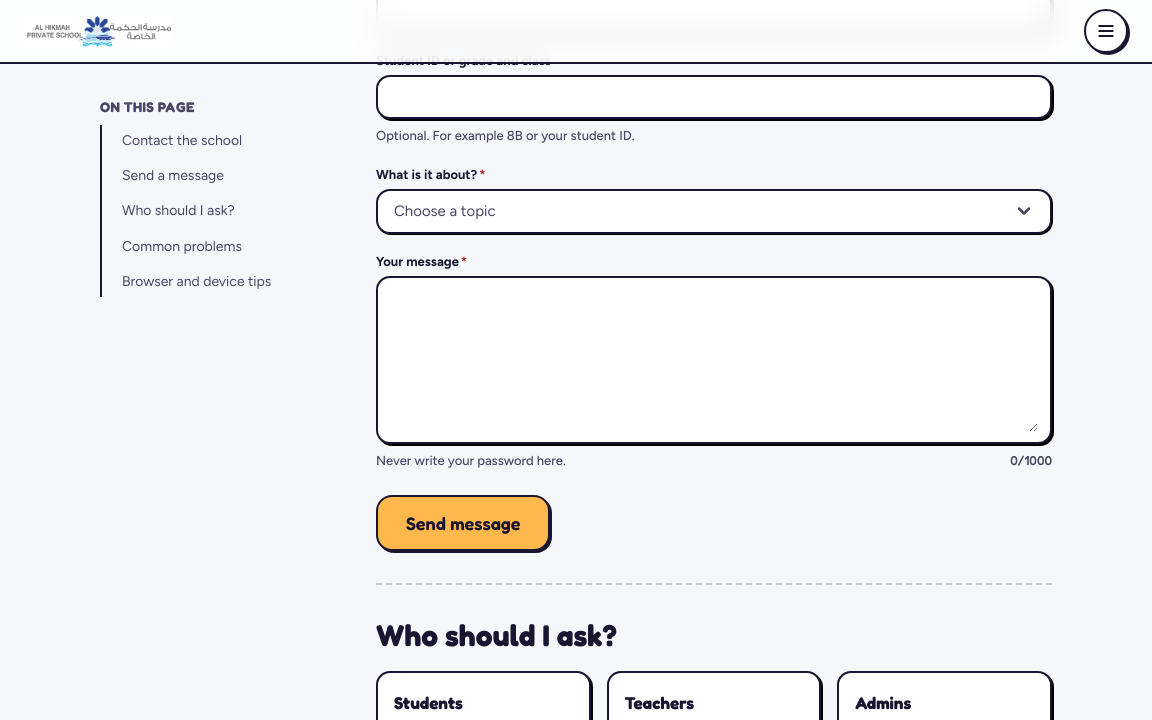
it: PUB-08: HelpContactPage (SH-06) › checks fields when they are left, with specific messages
(page scrolled)
Type "short" into the text box labelled "Your message*" at coordinates (714, 360), box left=390, top=288, right=1038, bottom=432
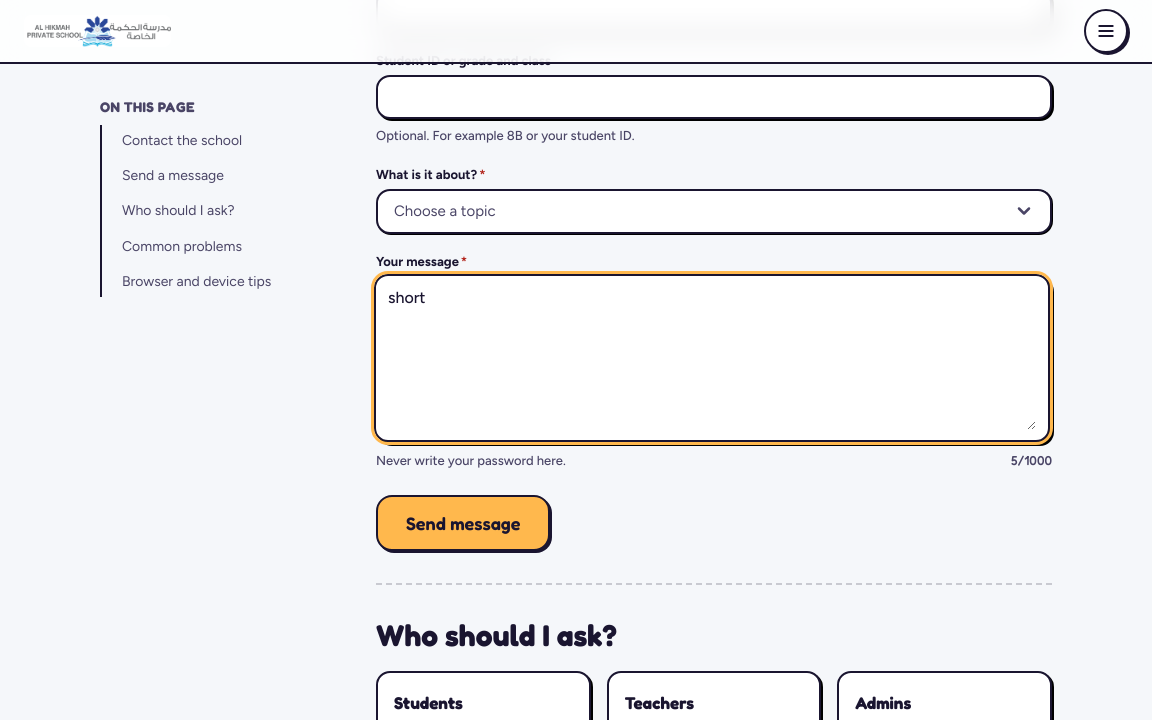
Press Tab
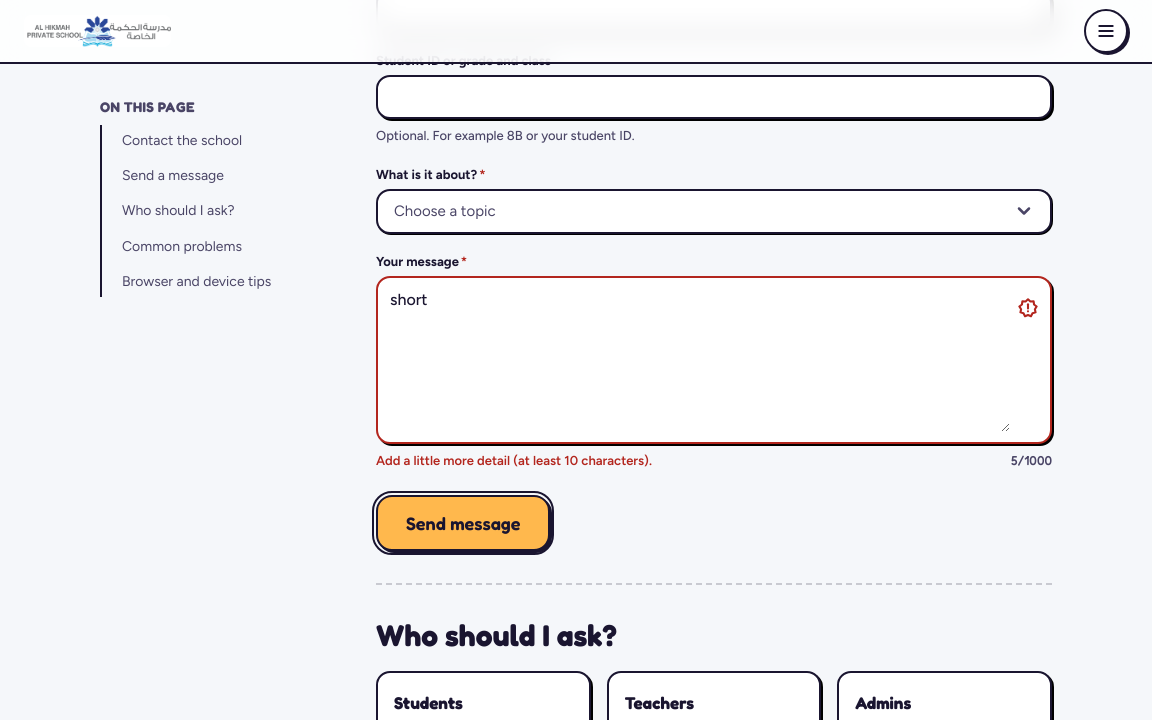
Expected: the text "Add a little more detail (at least 10 characters)." is shown, left=376, top=450, right=652, bottom=471
Type "8B!!" into the field labelled "Student ID or grade and class" at coordinates (714, 97), box left=390, top=77, right=1038, bottom=117
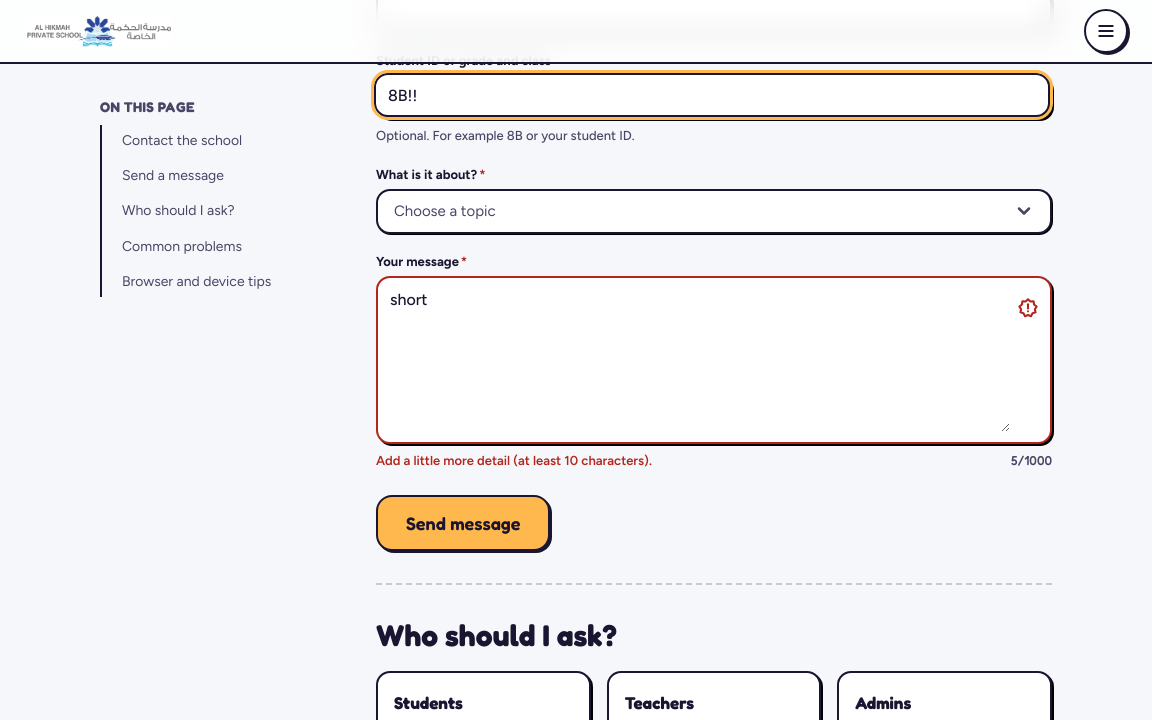
Press Tab
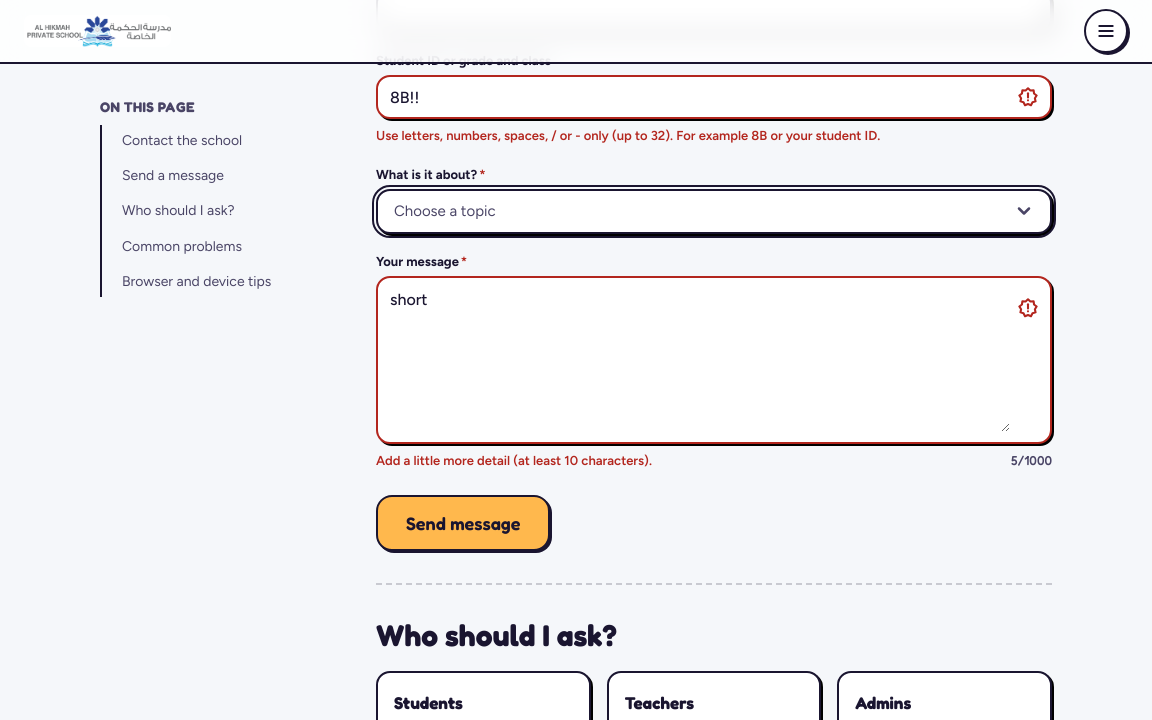
Expected: the text "Use letters, numbers, spaces" is shown, left=376, top=128, right=880, bottom=143
